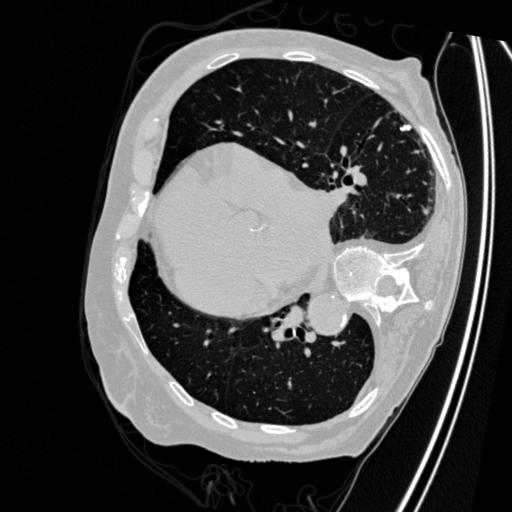nodule: (398, 119, 413, 134)
